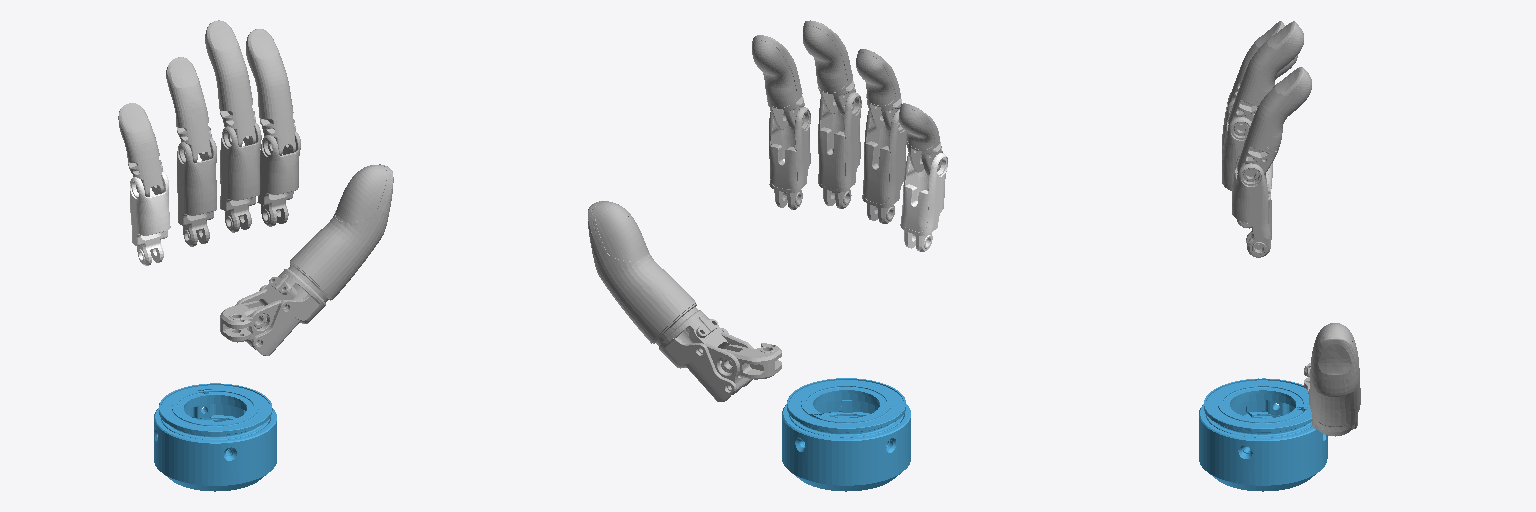
robot.urdf — BrainCoRevo1R_LeftHand:
<?xml version="1.0" encoding="utf-8"?>

<!-- This URDF was automatically created by SolidWorks to URDF Exporter! Originally created by Stephen Brawner (brawner@gmail.com) 
     Commit Version: 1.6.0-4-g7f85cfe  Build Version: 1.6.7995.38578
     For more information, please see http://wiki.ros.org/sw_urdf_exporter -->
<robot name="BrainCoRevo1R_LeftHand"> 
  <link name="base_link"/>  
  <link name="connector_link"> 
    <visual> 
      <origin xyz="0 0 0" rpy="0 0 0"/>  
      <geometry> 
        <mesh filename="visual/stl/connector_link.stl"/> 
      </geometry>  
    </visual>  
    <collision> 
      <origin xyz="0 0 0" rpy="0 0 0"/>  
      <geometry> 
        <mesh filename="collision/rough/connector_link.obj"/> 
      </geometry> 
    </collision> 
  </link>  
  <joint name="CONNECTOR" type="fixed"> 
    <origin xyz="0 0 0" rpy="1.5707963267948966 0 3.141592653589793"/> 
    <parent link="base_link"/>  
    <child link="connector_link"/>  
  </joint> 
  <link name="hand_base_link"> 
    <inertial> 
      <origin xyz="0.0017239 0.0051432 -0.031065" rpy="0 0 0"/>  
      <mass value="0.427"/>  
      <inertia ixx="0.0010405" ixy="-3.7268E-05" ixz="-3.9415E-05" iyy="0.0013244" iyz="-4.7638E-05" izz="0.00053219"/> 
    </inertial>  
    <visual> 
      <origin xyz="0 0 0" rpy="0 0 0"/>  
      <geometry> 
        <mesh filename="visual/stl/hand_base_link.stl"/> 
      </geometry>  
      <material name=""> 
        <color rgba="0.75294 0.75294 0.75294 1"/> 
      </material> 
    </visual>  
    <collision> 
      <origin xyz="0 0 0" rpy="0 0 0"/>  
      <geometry> 
        <mesh filename="collision/rough/hand_base_link.obj"/> 
      </geometry> 
    </collision> 
  </link>  
  <joint name="HAND_BASE" type="fixed"> 
    <origin xyz="0 0 0.002" rpy="0 0 0"/>  
    <parent link="connector_link"/>  
    <child link="hand_base_link"/> 
  </joint>  
  <link name="base_offset"> </link>  
  <joint name="BASE_OFFSET" type="fixed"> 
    <origin xyz="0 0.0298242 0" rpy="-0.0698132 0 0"/>  
    <parent link="hand_base_link"/>  
    <child link="base_offset"/>
  </joint>

  <link name="t_cmc_yaw_link"> 
    <inertial> 
      <origin xyz="0.0017239 0.0051432 -0.031065" rpy="0 0 0"/>  
      <mass value="0.005"/>  
      <inertia ixx="0.0010405" ixy="-3.7268E-05" ixz="-3.9415E-05" iyy="0.0013244" iyz="-4.7638E-05" izz="0.00053219"/> 
    </inertial>  
    <visual> 
      <origin xyz="0 0 0" rpy="0 0 0"/>  
      <geometry> 
        <mesh filename="visual/stl/t_cmc_yaw_link.stl"/> 
      </geometry>  
      <material name=""> 
        <color rgba="0.75294 0.75294 0.75294 1"/> 
      </material> 
    </visual>  
    <collision> 
      <origin xyz="0 0 0" rpy="0 0 0"/>  
      <geometry> 
        <mesh filename="collision/rough/t_cmc_yaw_link.obj"/> 
      </geometry> 
    </collision> 
  </link>  
  <link name="t_mcp_link"> 
    <inertial> 
      <origin xyz="0.0017239 0.0051432 -0.031065" rpy="0 0 0"/>  
      <mass value="0.04"/>  
      <inertia ixx="0.0010405" ixy="-3.7268E-05" ixz="-3.9415E-05" iyy="0.0013244" iyz="-4.7638E-05" izz="0.00053219"/> 
    </inertial>  
    <visual> 
      <origin xyz="0 0 0" rpy="0 0 0"/>  
      <geometry> 
        <mesh filename="visual/stl/t_mcp_link.stl"/> 
      </geometry>  
      <material name=""> 
        <color rgba="0.75294 0.75294 0.75294 1"/> 
      </material> 
    </visual>  
    <collision> 
      <origin xyz="0 0 0" rpy="0 0 0"/>  
      <geometry> 
        <mesh filename="collision/rough/t_mcp_link.obj"/> 
      </geometry> 
    </collision> 
  </link>  
  <link name="if_mcp_pitch_link"> 
    <inertial> 
      <origin xyz="0.0017239 0.0051432 -0.031065" rpy="0 0 0"/>  
      <mass value="0.008"/>  
      <inertia ixx="0.0010405" ixy="-3.7268E-05" ixz="-3.9415E-05" iyy="0.0013244" iyz="-4.7638E-05" izz="0.00053219"/> 
    </inertial>  
    <visual> 
      <origin xyz="0 0 0" rpy="0 0 0"/>  
      <geometry> 
        <mesh filename="visual/stl/if_mcp_pitch_link.stl"/> 
      </geometry>  
      <material name=""> 
        <color rgba="0.75294 0.75294 0.75294 1"/> 
      </material> 
    </visual>  
    <collision> 
      <origin xyz="0 0 0" rpy="0 0 0"/>  
      <geometry> 
        <mesh filename="collision/rough/if_mcp_pitch_link.obj"/> 
      </geometry> 
    </collision> 
  </link>  
  <link name="if_dip_link"> 
    <inertial> 
      <origin xyz="0.0017239 0.0051432 -0.031065" rpy="0 0 0"/>  
      <mass value="0.011"/>  
      <inertia ixx="0.0010405" ixy="-3.7268E-05" ixz="-3.9415E-05" iyy="0.0013244" iyz="-4.7638E-05" izz="0.00053219"/> 
    </inertial>  
    <visual> 
      <origin xyz="0 0 0" rpy="0 0 0"/>  
      <geometry> 
        <mesh filename="visual/stl/if_dip_link.stl"/> 
      </geometry>  
      <material name=""> 
        <color rgba="0.75294 0.75294 0.75294 1"/> 
      </material> 
    </visual>  
    <collision> 
      <origin xyz="0 0 0" rpy="0 0 0"/>  
      <geometry> 
        <mesh filename="collision/rough/if_dip_link.obj"/> 
      </geometry> 
    </collision> 
  </link>  
  <link name="mf_mcp_pitch_link"> 
    <inertial> 
      <origin xyz="0.0017239 0.0051432 -0.031065" rpy="0 0 0"/>  
      <mass value="0.011"/>  
      <inertia ixx="0.0010405" ixy="-3.7268E-05" ixz="-3.9415E-05" iyy="0.0013244" iyz="-4.7638E-05" izz="0.00053219"/> 
    </inertial>  
    <visual> 
      <origin xyz="0 0 0" rpy="0 0 0"/>  
      <geometry> 
        <mesh filename="visual/stl/mf_mcp_pitch_link.stl"/> 
      </geometry>  
      <material name=""> 
        <color rgba="0.75294 0.75294 0.75294 1"/> 
      </material> 
    </visual>  
    <collision> 
      <origin xyz="0 0 0" rpy="0 0 0"/>  
      <geometry> 
        <mesh filename="collision/rough/mf_mcp_pitch_link.obj"/> 
      </geometry> 
    </collision> 
  </link>  
  <link name="mf_dip_link"> 
    <inertial> 
      <origin xyz="0.0017239 0.0051432 -0.031065" rpy="0 0 0"/>  
      <mass value="0.011"/>  
      <inertia ixx="0.0010405" ixy="-3.7268E-05" ixz="-3.9415E-05" iyy="0.0013244" iyz="-4.7638E-05" izz="0.00053219"/> 
    </inertial>  
    <visual> 
      <origin xyz="0 0 0" rpy="0 0 0"/>  
      <geometry> 
        <mesh filename="visual/stl/mf_dip_link.stl"/> 
      </geometry>  
      <material name=""> 
        <color rgba="0.75294 0.75294 0.75294 1"/> 
      </material> 
    </visual>  
    <collision> 
      <origin xyz="0 0 0" rpy="0 0 0"/>  
      <geometry> 
        <mesh filename="collision/rough/mf_dip_link.obj"/> 
      </geometry> 
    </collision> 
  </link>  
  <link name="rf_mcp_pitch_link"> 
    <inertial> 
      <origin xyz="0.0017239 0.0051432 -0.031065" rpy="0 0 0"/>  
      <mass value="0.011"/>  
      <inertia ixx="0.0010405" ixy="-3.7268E-05" ixz="-3.9415E-05" iyy="0.0013244" iyz="-4.7638E-05" izz="0.00053219"/> 
    </inertial>  
    <visual> 
      <origin xyz="0 0 0" rpy="0 0 0"/>  
      <geometry> 
        <mesh filename="visual/stl/rf_mcp_pitch_link.stl"/> 
      </geometry>  
      <material name=""> 
        <color rgba="0.75294 0.75294 0.75294 1"/> 
      </material> 
    </visual>  
    <collision> 
      <origin xyz="0 0 0" rpy="0 0 0"/>  
      <geometry> 
        <mesh filename="collision/rough/rf_mcp_pitch_link.obj"/> 
      </geometry> 
    </collision> 
  </link>  
  <link name="rf_dip_link"> 
    <inertial> 
      <origin xyz="0.0017239 0.0051432 -0.031065" rpy="0 0 0"/>  
      <mass value="0.008"/>  
      <inertia ixx="0.0010405" ixy="-3.7268E-05" ixz="-3.9415E-05" iyy="0.0013244" iyz="-4.7638E-05" izz="0.00053219"/> 
    </inertial>  
    <visual> 
      <origin xyz="0 0 0" rpy="0 0 0"/>  
      <geometry> 
        <mesh filename="visual/stl/rf_dip_link.stl"/> 
      </geometry>  
      <material name=""> 
        <color rgba="0.75294 0.75294 0.75294 1"/> 
      </material> 
    </visual>  
    <collision> 
      <origin xyz="0 0 0" rpy="0 0 0"/>  
      <geometry> 
        <mesh filename="collision/rough/rf_dip_link.obj"/> 
      </geometry> 
    </collision> 
  </link>  
  <link name="lf_mcp_pitch_link"> 
    <inertial> 
      <origin xyz="0 0 0" rpy="0 0 0"/>  
      <mass value="0.008"/>  
      <inertia ixx="3.3526E-07" ixy="2.8461E-11" ixz="-2.3358E-12" iyy="1.0129E-07" iyz="2.1346E-08" izz="3.7096E-07"/> 
    </inertial>  
    <visual> 
      <origin xyz="0 0 0" rpy="0 0 0"/>  
      <geometry> 
        <mesh filename="visual/stl/lf_mcp_pitch_link.stl"/> 
      </geometry>  
      <material name=""> 
        <color rgba="1 1 1 1"/> 
      </material> 
    </visual>  
    <collision> 
      <origin xyz="0 0 0" rpy="0 0 0"/>  
      <geometry> 
        <mesh filename="collision/rough/lf_mcp_pitch_link.obj"/> 
      </geometry> 
    </collision> 
  </link>  
  <link name="lf_dip_link"> 
    <inertial> 
      <origin xyz="0.0017239 0.0051432 -0.031065" rpy="0 0 0"/>  
      <mass value="0.008"/>  
      <inertia ixx="0.0010405" ixy="-3.7268E-05" ixz="-3.9415E-05" iyy="0.0013244" iyz="-4.7638E-05" izz="0.00053219"/> 
    </inertial>  
    <visual> 
      <origin xyz="0 0 0" rpy="0 0 0"/>  
      <geometry> 
        <mesh filename="visual/stl/lf_dip_link.stl"/> 
      </geometry>  
      <material name=""> 
        <color rgba="0.75294 0.75294 0.75294 1"/> 
      </material> 
    </visual>  
    <collision> 
      <origin xyz="0 0 0" rpy="0 0 0"/>  
      <geometry> 
        <mesh filename="collision/rough/lf_dip_link.obj"/> 
      </geometry> 
    </collision> 
  </link>  



  <joint name="T_CMC_YAW" type="revolute"> 
    <origin xyz="-0.0245 0.022632 0.023263" rpy="0.14578 -1.0699 -0.12808"/>  
    <parent link="base_offset"/>  
    <child link="t_cmc_yaw_link"/>  
    <axis xyz="0 1 0"/>  
    <limit lower="0" upper="1.5708" effort="0" velocity="0"/>  
    <dynamics damping="0" friction="0"/> 
  </joint>  
  <joint name="T_MCP" type="revolute"> 
    <origin xyz="0 0 0.013647" rpy="0.87266 -0.49642 0"/>  
    <parent link="t_cmc_yaw_link"/>  
    <child link="t_mcp_link"/>  
    <axis xyz="-1 0 0"/>  
    <limit lower="0" upper="0.8727" effort="0" velocity="0"/>  
    <dynamics damping="0" friction="0"/> 
  </joint>  
  <joint name="IF_MCP_PITCH" type="revolute"> 
    <origin xyz="-0.029003 0.088291 0.0022155" rpy="-0.029415 0.05236 0.034907"/>  
    <parent link="base_offset"/>  
    <child link="if_mcp_pitch_link"/>  
    <axis xyz="1 0 0"/>  
    <limit lower="0" upper="1.309" effort="0" velocity="0"/>  
    <dynamics damping="0" friction="0"/> 
  </joint>  
  <joint name="IF_DIP" type="revolute"> 
    <origin xyz="0 0.035 0" rpy="0.19353 0 0"/>  
    <parent link="if_mcp_pitch_link"/>  
    <child link="if_dip_link"/>  
    <axis xyz="1 0 0"/>  
    <limit lower="0" upper="2.0944" effort="0" velocity="0"/> 
    <mimic joint="IF_MCP_PITCH" multiplier="1.2" offset="0.19373154697137057"/>
  </joint>  
  <joint name="MF_MCP_PITCH" type="revolute"> 
    <origin xyz="-0.008 0.092284 -0.0017707" rpy="0 0 0"/>  
    <parent link="base_offset"/>  
    <child link="mf_mcp_pitch_link"/>  
    <axis xyz="1 0 0"/>  
    <limit lower="0" upper="1.309" effort="0" velocity="0"/>  
    <dynamics damping="0" friction="0"/> 
  </joint>  
  <joint name="MF_DIP" type="revolute"> 
    <origin xyz="0 0.042 0" rpy="0.18357 0 0"/>  
    <parent link="mf_mcp_pitch_link"/>  
    <child link="mf_dip_link"/>  
    <axis xyz="1 0 0"/>  
    <limit lower="0" upper="2.0944" effort="0" velocity="0"/> 
    <mimic joint="MF_MCP_PITCH" multiplier="1.2" offset="0.1832595714594046"/>
  </joint>  
  <joint name="RF_MCP_PITCH" type="revolute"> 
    <origin xyz="0.013103 0.090291 -0.0017845" rpy="-0.0092374 -0.05236 -0.034907"/>  
    <parent link="base_offset"/>  
    <child link="rf_mcp_pitch_link"/>  
    <axis xyz="1 0 0"/>  
    <limit lower="0" upper="1.309" effort="0" velocity="0"/>  
    <dynamics damping="0" friction="0"/> 
  </joint>  
  <joint name="RF_DIP" type="revolute"> 
    <origin xyz="0 0.042 0" rpy="0.16583 0 0"/>  
    <parent link="rf_mcp_pitch_link"/>  
    <child link="rf_dip_link"/>  
    <axis xyz="1 0 0"/>  
    <limit lower="0" upper="2.0944" effort="0" velocity="0"/> 
    <mimic joint="RF_MCP_PITCH" multiplier="1.2" offset="0.16580627893946132"/>
  </joint>  
  <joint name="LF_MCP_PITCH" type="revolute"> 
    <origin xyz="0.033731 0.083777 0.0022155" rpy="-0.024909 -0.05236 -0.069813"/>  
    <parent link="base_offset"/>  
    <child link="lf_mcp_pitch_link"/>  
    <axis xyz="1 0 0"/>  
    <limit lower="0" upper="1.309" effort="0" velocity="0"/>  
    <dynamics damping="0" friction="0"/> 
  </joint>  
  <joint name="LF_DIP" type="revolute"> 
    <origin xyz="0 0.035 0" rpy="0.20294 0 0"/>  
    <parent link="lf_mcp_pitch_link"/>  
    <child link="lf_dip_link"/>  
    <axis xyz="1 0 0"/>  
    <limit lower="0" upper="2.0944" effort="0" velocity="0"/> 
    <mimic joint="LF_MCP_PITCH" multiplier="1.2" offset="0.20245819323134223"/>
  </joint> 
</robot>

--- Facts derived from the render (not from the file) ---
3 views of the same robot in one strip: view 1: azimuth 30°, elevation 25°; view 2: azimuth 150°, elevation 25°; view 3: azimuth 270°, elevation 25° (orthographic).
Model BrainCoRevo1R_LeftHand with 14 links and 13 joints (10 revolute, 3 fixed), rooted at base_link, posed all joints at 0.
Visible links, largest first — view 1: connector_link, t_mcp_link, if_dip_link, mf_dip_link, mf_mcp_pitch_link, rf_mcp_pitch_link, rf_dip_link, if_mcp_pitch_link, lf_mcp_pitch_link, lf_dip_link, t_cmc_yaw_link; view 2: connector_link, t_mcp_link, mf_mcp_pitch_link, rf_mcp_pitch_link, if_mcp_pitch_link, lf_mcp_pitch_link, if_dip_link, mf_dip_link, rf_dip_link, lf_dip_link, t_cmc_yaw_link; view 3: connector_link, t_mcp_link, if_dip_link, mf_dip_link, if_mcp_pitch_link, mf_mcp_pitch_link, rf_dip_link.
Link boxes in pixels (bbox=[...]): connector_link: bbox=[154, 383, 276, 491]; t_mcp_link: bbox=[235, 164, 393, 355]; if_dip_link: bbox=[246, 29, 295, 155]; mf_dip_link: bbox=[205, 20, 255, 146]; mf_mcp_pitch_link: bbox=[220, 123, 261, 232]; rf_mcp_pitch_link: bbox=[177, 137, 216, 246]; rf_dip_link: bbox=[166, 57, 211, 162]; if_mcp_pitch_link: bbox=[257, 132, 300, 226]; lf_mcp_pitch_link: bbox=[130, 171, 170, 265]; lf_dip_link: bbox=[118, 103, 163, 196]; t_cmc_yaw_link: bbox=[220, 301, 266, 342]; connector_link: bbox=[782, 378, 910, 491]; t_mcp_link: bbox=[588, 201, 753, 401]; mf_mcp_pitch_link: bbox=[818, 92, 861, 208]; rf_mcp_pitch_link: bbox=[862, 109, 906, 223]; if_mcp_pitch_link: bbox=[769, 107, 810, 209]; lf_mcp_pitch_link: bbox=[900, 153, 947, 251]; if_dip_link: bbox=[752, 35, 804, 131]; mf_dip_link: bbox=[803, 20, 855, 116]; rf_dip_link: bbox=[856, 49, 901, 131]; lf_dip_link: bbox=[899, 103, 942, 175]; t_cmc_yaw_link: bbox=[720, 343, 781, 379]; connector_link: bbox=[1199, 378, 1327, 491]; t_mcp_link: bbox=[1309, 323, 1360, 436]; if_dip_link: bbox=[1237, 67, 1311, 181]; mf_dip_link: bbox=[1228, 21, 1303, 135]; if_mcp_pitch_link: bbox=[1232, 155, 1271, 257]; mf_mcp_pitch_link: bbox=[1222, 110, 1251, 228]; rf_dip_link: bbox=[1228, 21, 1284, 104].
Bounding box of the posed robot: 0.1496 × 0.0681 × 0.2101 m (x, y, z).
11 mesh visuals loaded from 12 distinct referenced files (11 binary STL); not drawn: 1 (reference not matched to a file when rendering).
